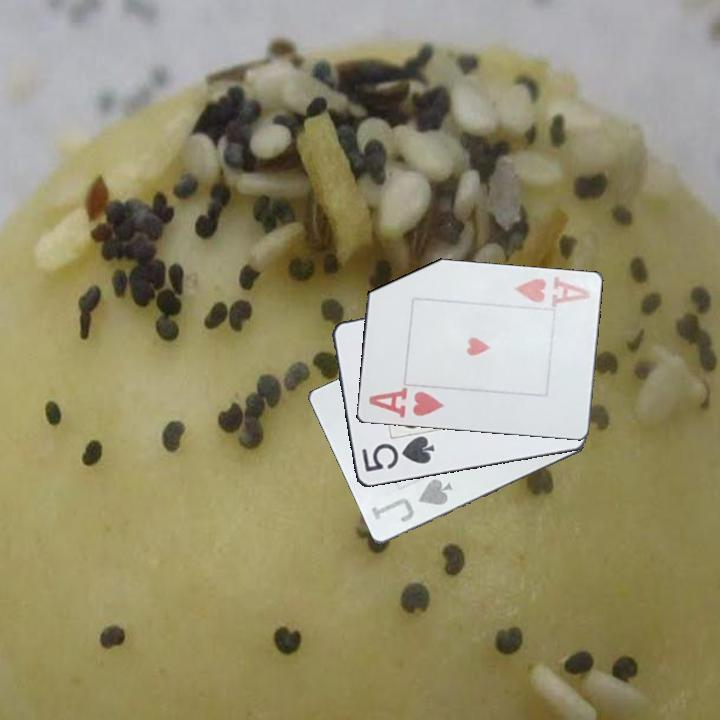5s: (358, 434, 437, 475)
Ah: (510, 273, 593, 310), (365, 384, 447, 421)
Js: (368, 475, 455, 526)
